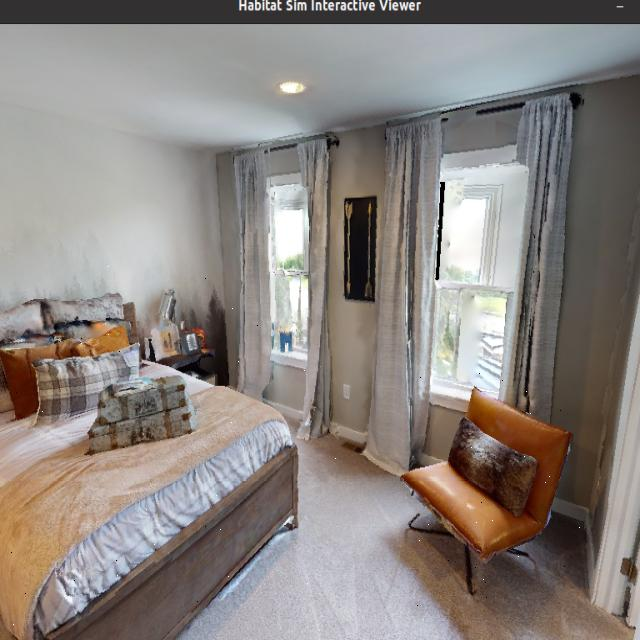bed: (0, 259, 349, 640)
sofa: (405, 370, 582, 610)
